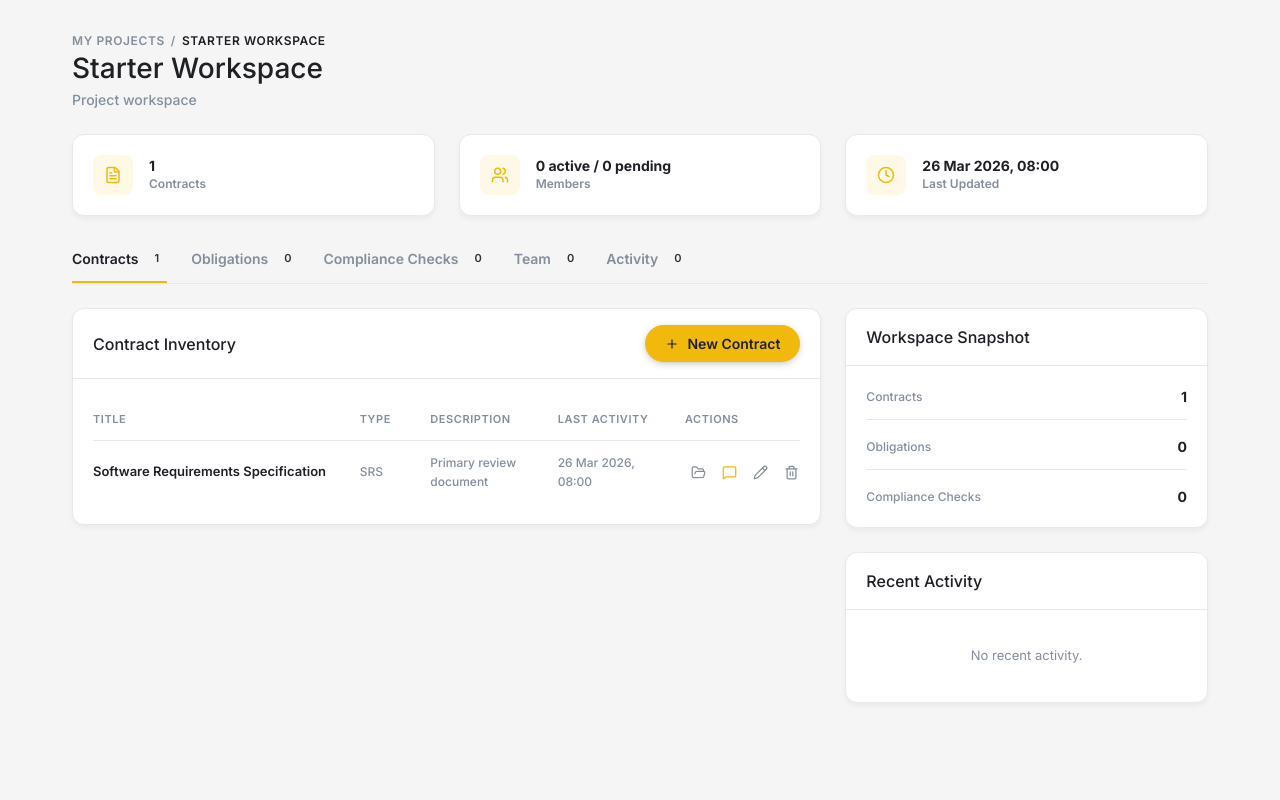
ProjectDetailPage › updates a document from the project workspace and refreshes the inventory
This screenshot has width=1280, height=800.
Expected: the link "Software Requirements Specification" is shown, [93, 463, 326, 479]
Expected: the heading "Contract Inventory" is shown, [93, 332, 236, 356]
Click the button named "edit": [760, 472] box [747, 458, 774, 486]
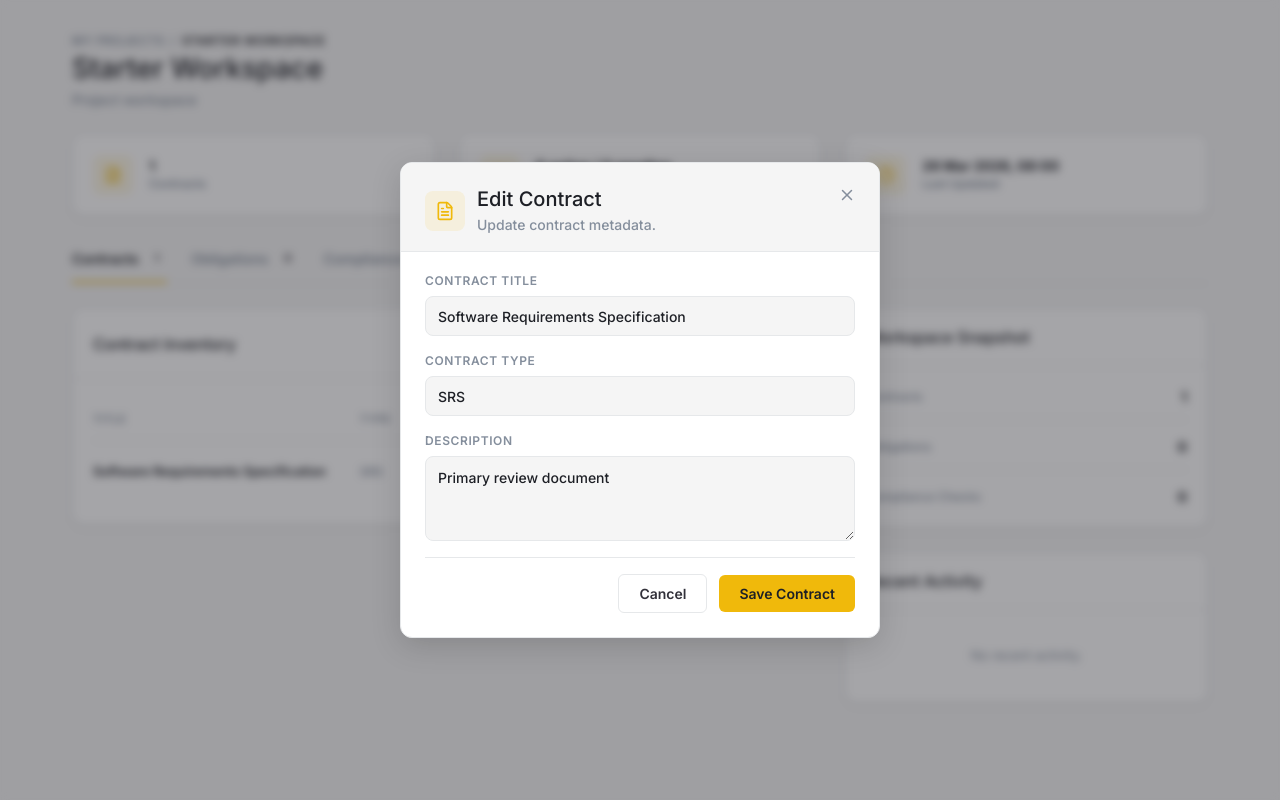
Replace the text in the field named "contract title" with "Updated SRS": [640, 316] box [425, 296, 855, 336]
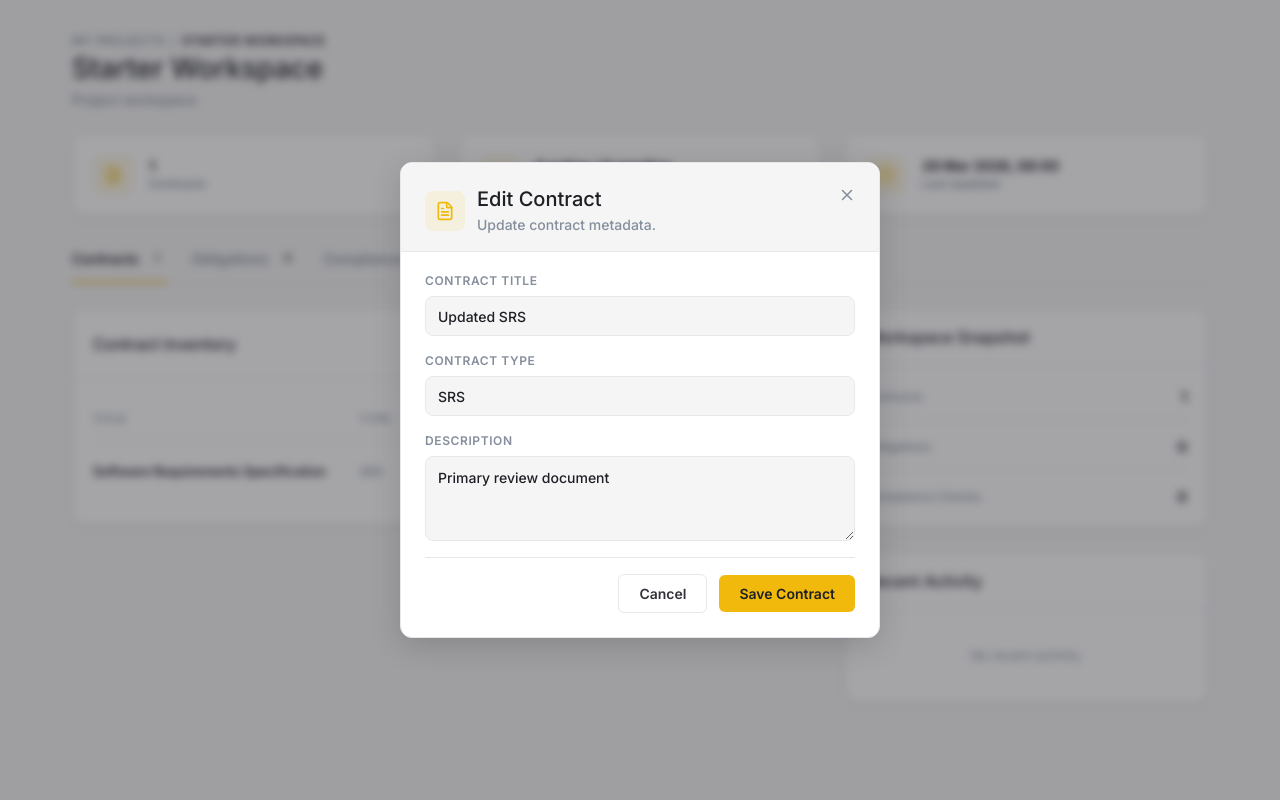
Replace the text in the text box named "description" with "Updated from project detail": [640, 498] box [425, 456, 855, 541]
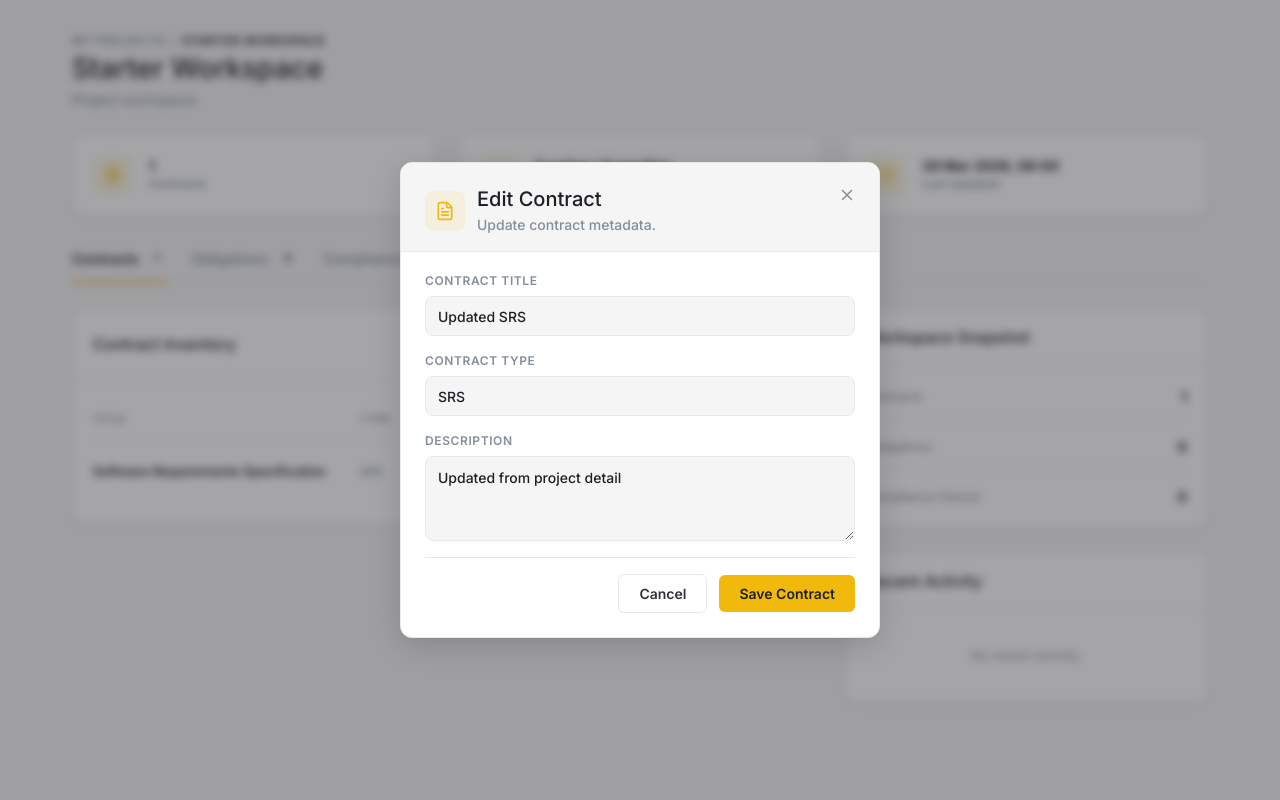
Click the button "Save Contract": [787, 594] box [719, 575, 855, 612]
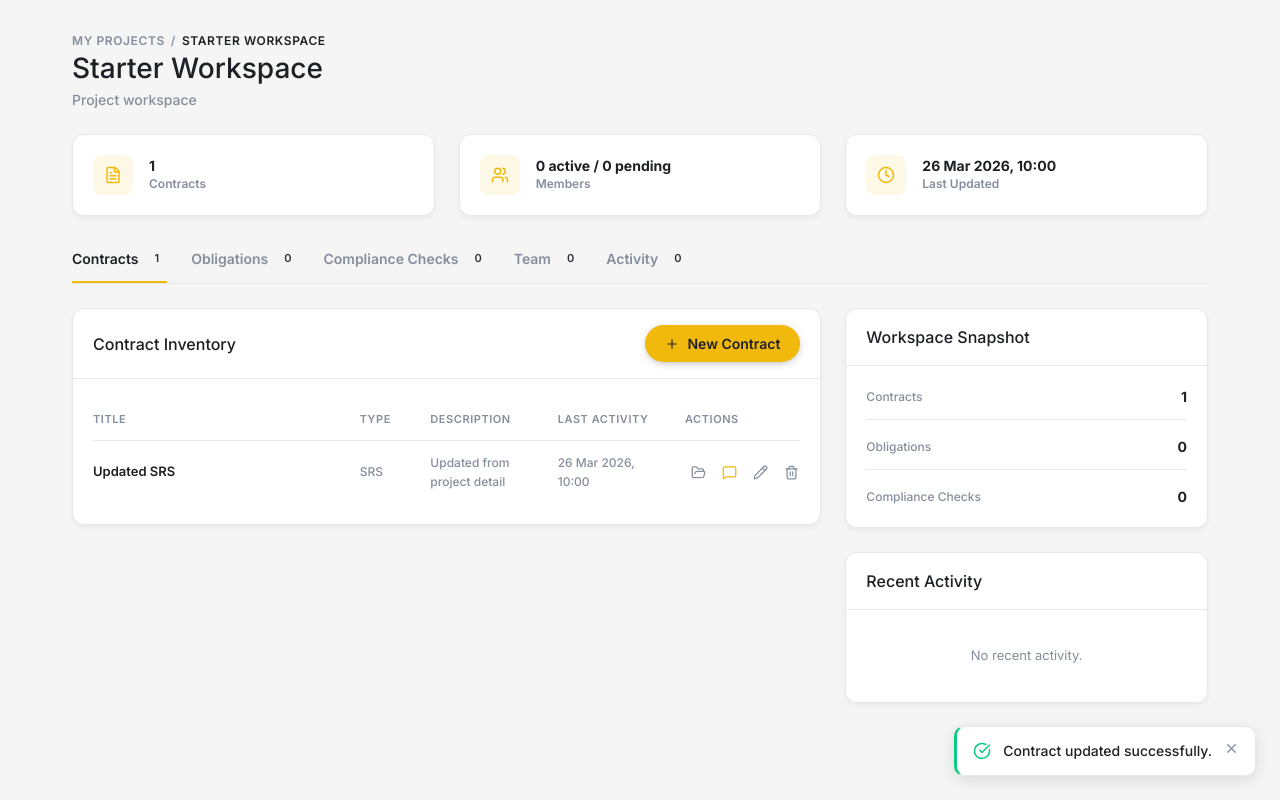
Expected: the link "Updated SRS" is shown, [93, 463, 175, 479]
Expected: the text "Updated from project detail" is shown, [430, 454, 509, 489]
